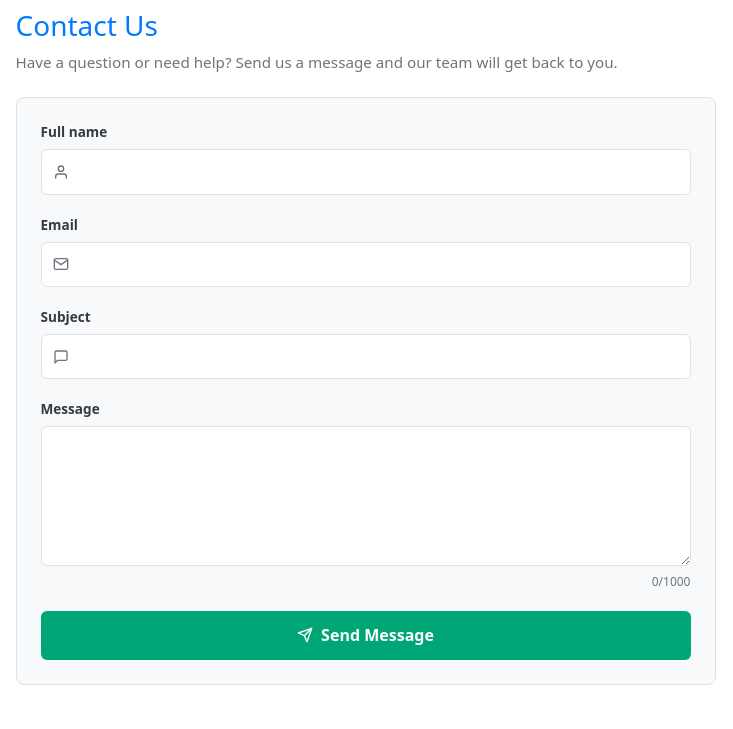
Contact › keeps entered values, shows a focused alert, and re-enables controls on API failure
Step 1. Type "Jane Doe" into the field labelled "Full name" → (366, 172), box [40,149,690,195]
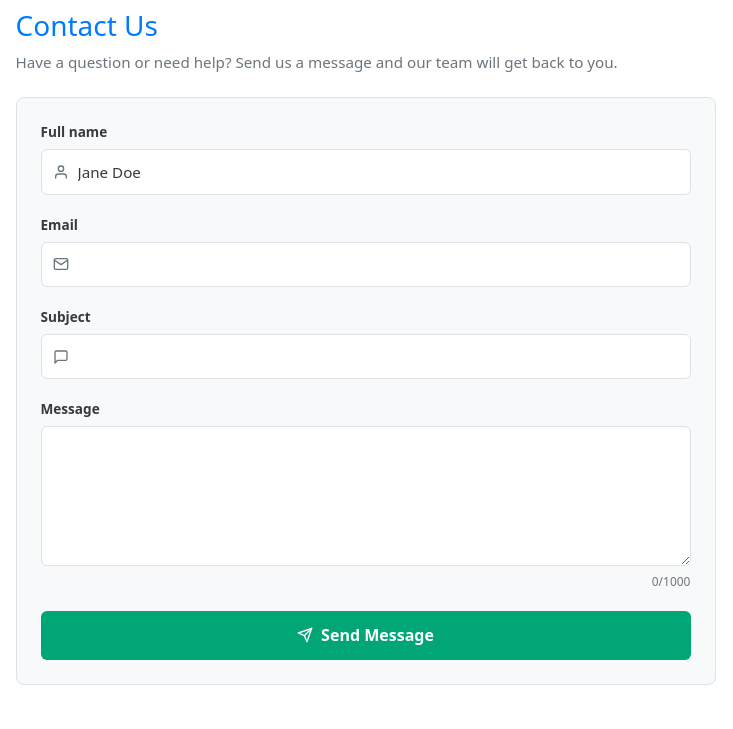
Step 2. Type "jane@example.com" into the field labelled "Email" → (366, 264), box [40,242,690,287]
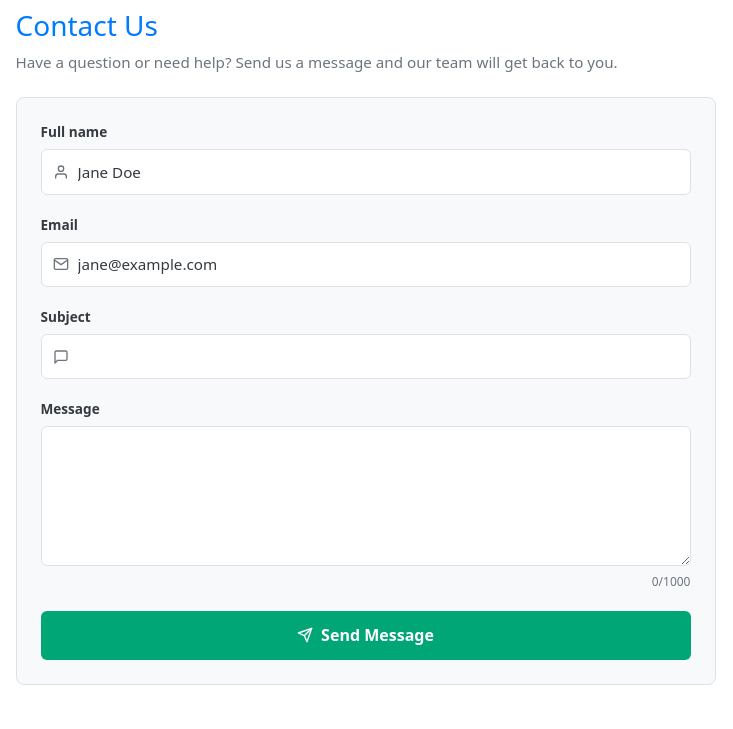
Step 3. Type "Support request" into the field labelled "Subject" → (366, 357), box [40,334,690,380]
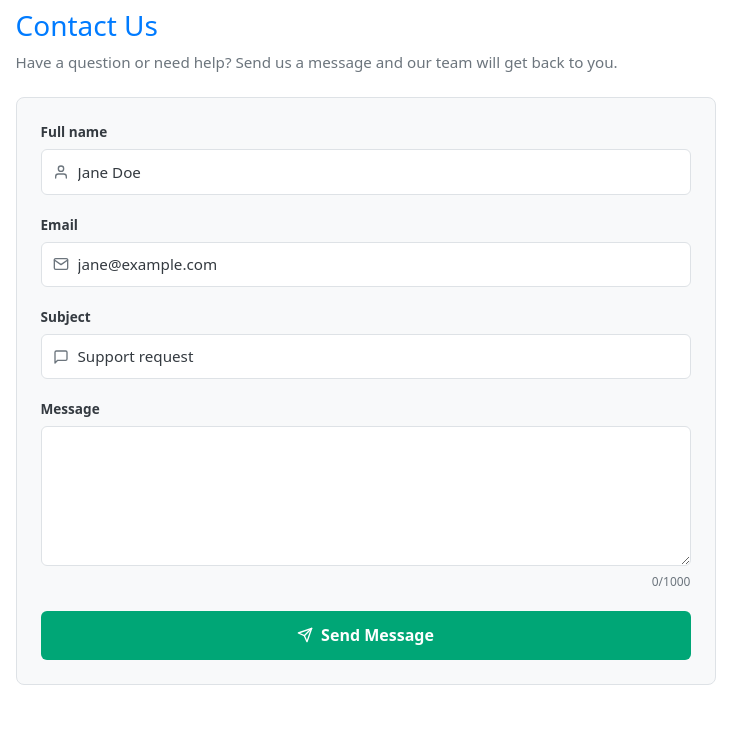
Step 4. Type "I need help with my appointment." into the text box labelled "Message" → (366, 496), box [40,426,690,566]
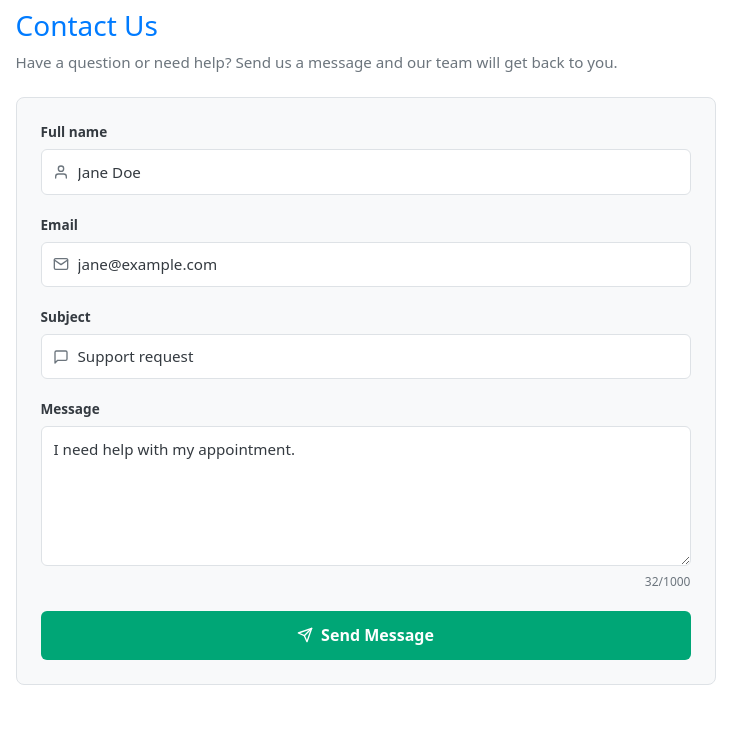
Step 5. Click the button "Send Message" → (366, 635), box [40,611,690,660]
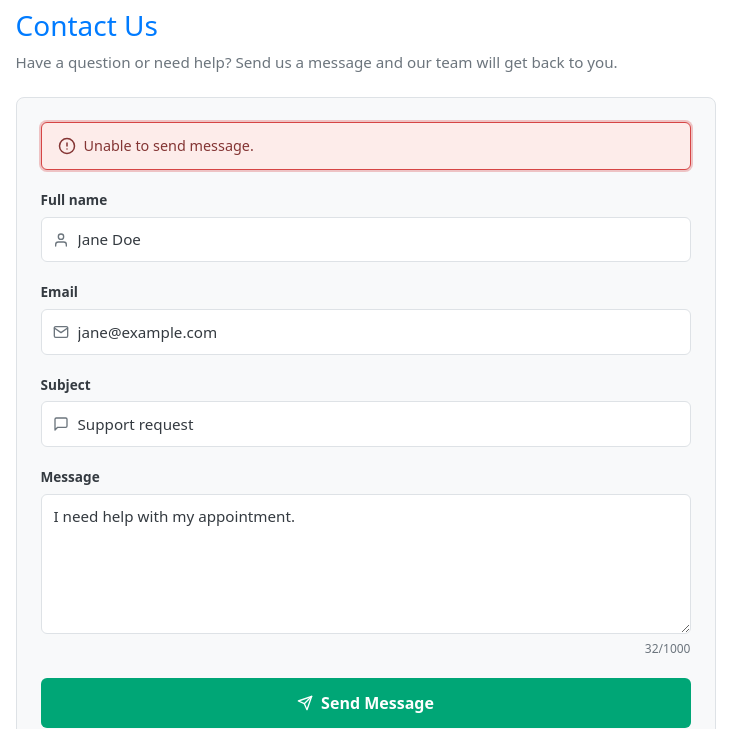
Check: the field labelled "Full name" is enabled, box [40,217,690,262]
Check: the message reads "Unable to send message.", box [84,136,254,155]
